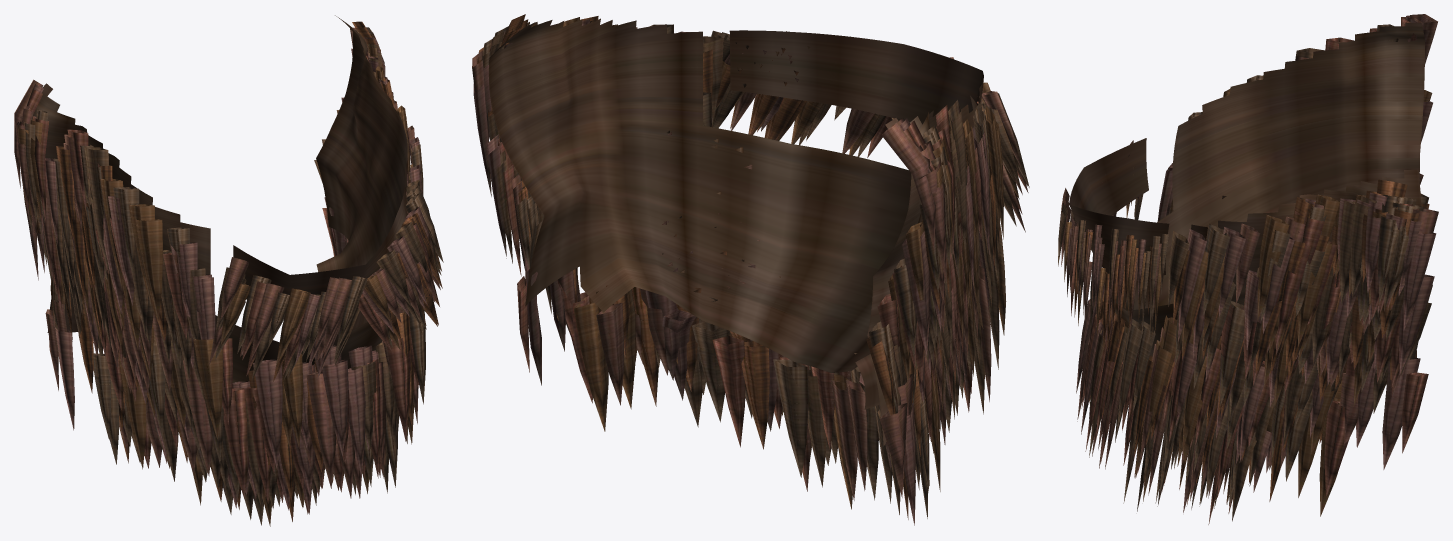
Rendered from cheia.glb.
3 views of the same model, side by side, from view 1: azimuth 30°, elevation 25°; view 2: azimuth 150°, elevation 25°; view 3: azimuth 270°, elevation 25° (orthographic). The views are drawn at different scales.
Parts seen in each view (by area): view 1: barba_cheia; view 2: barba_cheia; view 3: barba_cheia.
Part boxes in pixels (x1,y1,x2,y2): barba_cheia: [14, 15, 443, 526]; barba_cheia: [472, 14, 1029, 525]; barba_cheia: [1058, 14, 1438, 524].
Size of the model in its own units: 0.2036 by 0.2211 by 0.1779.
1 material, 1 textured.
